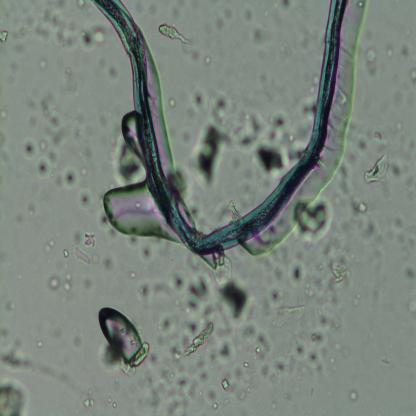Air bubble: (100, 180, 157, 244), (96, 305, 141, 362), (118, 108, 144, 152)
Background material: (183, 85, 231, 189), (29, 0, 104, 50), (144, 356, 209, 411), (206, 244, 252, 320), (241, 108, 295, 168), (292, 304, 338, 369), (21, 96, 56, 176), (312, 231, 348, 300), (290, 193, 336, 246), (0, 333, 53, 378), (236, 313, 273, 360), (179, 312, 211, 360), (156, 21, 201, 52), (381, 210, 415, 249), (299, 66, 323, 121), (360, 149, 394, 184), (258, 358, 294, 391), (72, 225, 99, 267), (0, 375, 27, 416), (70, 111, 94, 157), (130, 276, 176, 300), (238, 3, 262, 48), (222, 368, 252, 404), (190, 271, 210, 324), (114, 142, 140, 182), (274, 305, 310, 330), (284, 252, 308, 287), (124, 236, 153, 264), (391, 162, 415, 195), (58, 68, 86, 96), (342, 122, 368, 150), (390, 122, 414, 150), (168, 267, 191, 295), (356, 216, 382, 240), (54, 166, 79, 190), (348, 192, 369, 220), (214, 5, 235, 29), (156, 315, 174, 343), (366, 46, 380, 80), (60, 265, 76, 292), (212, 337, 233, 356), (268, 288, 286, 308), (207, 386, 219, 411), (404, 262, 416, 283), (80, 275, 94, 292), (47, 272, 60, 290), (407, 293, 416, 318), (103, 254, 115, 272), (82, 390, 94, 408), (399, 43, 412, 58), (28, 202, 38, 221), (82, 191, 94, 206), (384, 40, 394, 58), (44, 237, 54, 255), (352, 290, 362, 308), (36, 57, 48, 70), (371, 131, 384, 143), (348, 389, 360, 402), (75, 327, 82, 349), (34, 337, 45, 351), (164, 97, 177, 108), (108, 395, 118, 409), (5, 300, 17, 311), (0, 27, 7, 42), (409, 66, 416, 81), (172, 349, 182, 359), (240, 362, 252, 370), (112, 68, 119, 78), (63, 249, 69, 259), (206, 55, 211, 65), (287, 0, 292, 8)
Cotton: (92, 1, 347, 258)
